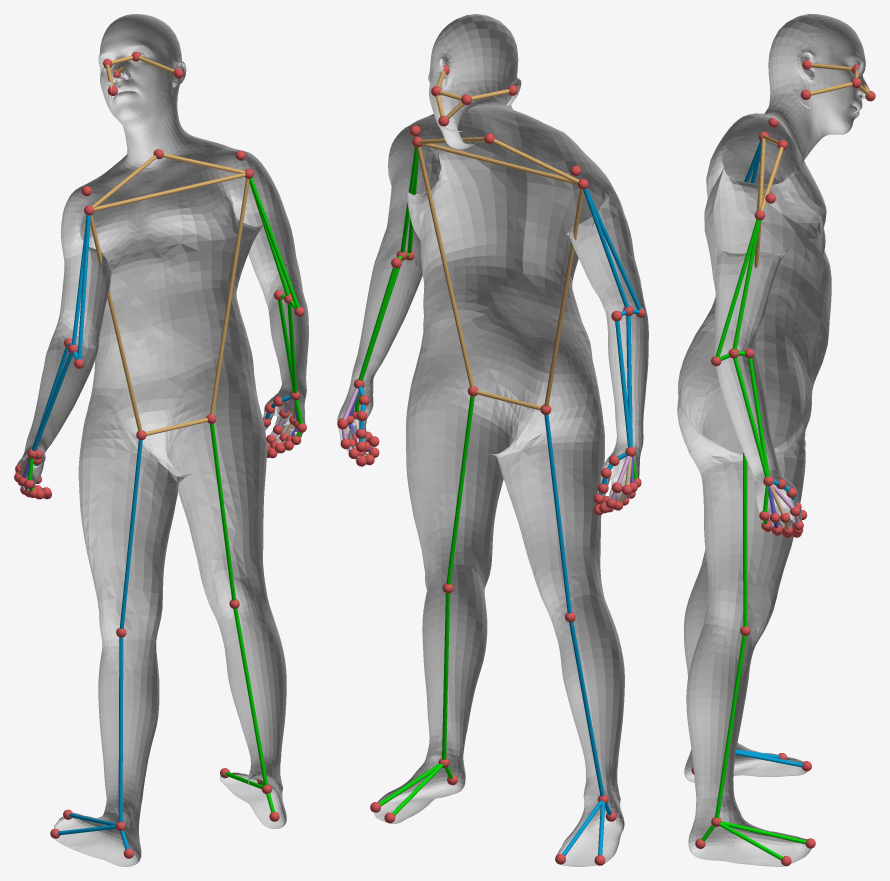
Rendered from landing-preview.glb.
3 views of the same model, side by side, from view 1: azimuth 30°, elevation 25°; view 2: azimuth 150°, elevation 25°; view 3: azimuth 270°, elevation 25° (orthographic). The views are drawn at different scales.
Parts seen in each view (by area): view 1: body_mesh, bone_05_05_09, bone_06_06_10, bone_03_12_10, bone_00_13_11, bone_01_11_09, bone_02_14_12, bone_07_05_06, bone_71_06_64, bone_67_05_63; view 2: body_mesh, bone_05_05_09, bone_06_06_10, bone_03_12_10, bone_01_11_09, bone_02_14_12, bone_00_13_11, bone_07_05_06, bone_74_66_41, bone_09_06_08; view 3: body_mesh, bone_00_13_11, bone_01_11_09, bone_67_05_63, bone_08_05_07, bone_10_07_62, bone_70_65_62.
Part boxes in pixels (x1,y1,x2,y2): body_mesh: (15,14,308,866); bone_05_05_09: (210,178,249,414); bone_06_06_10: (90,215,142,431); bone_03_12_10: (120,440,142,628); bone_00_13_11: (233,608,267,785); bone_01_11_09: (210,423,235,600); bone_02_14_12: (118,637,123,822); bone_07_05_06: (94,173,245,211); bone_71_06_64: (77,215,90,359); bone_67_05_63: (249,178,299,308); body_mesh: (337,14,648,866); bone_05_05_09: (416,146,474,387); bone_06_06_10: (544,189,583,406); bone_03_12_10: (544,414,571,613); bone_01_11_09: (446,396,474,584); bone_02_14_12: (569,622,604,796); bone_00_13_11: (442,593,449,759); bone_07_05_06: (421,143,577,184); bone_74_66_41: (615,321,631,447); bone_09_06_08: (583,188,628,307); body_mesh: (677,14,870,866); bone_00_13_11: (715,635,746,818); bone_01_11_09: (743,452,747,626); bone_67_05_63: (715,219,758,357); bone_08_05_07: (732,220,760,349); bone_10_07_62: (733,357,767,477); bone_70_65_62: (748,358,769,476).
Size of the model in its own units: 0.6529 by 1.75 by 0.3937.
